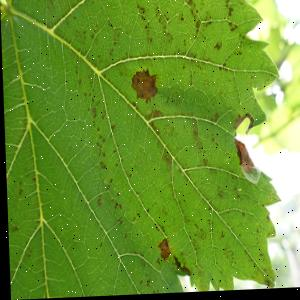Folha: (0, 0, 285, 300)
Fungo: (233, 138, 260, 187), (130, 69, 157, 105), (232, 113, 254, 137), (155, 239, 169, 262), (228, 22, 237, 34), (212, 43, 222, 53), (166, 33, 173, 47), (97, 161, 106, 170), (94, 198, 101, 208), (16, 187, 22, 195), (112, 201, 116, 210), (117, 204, 120, 211)
